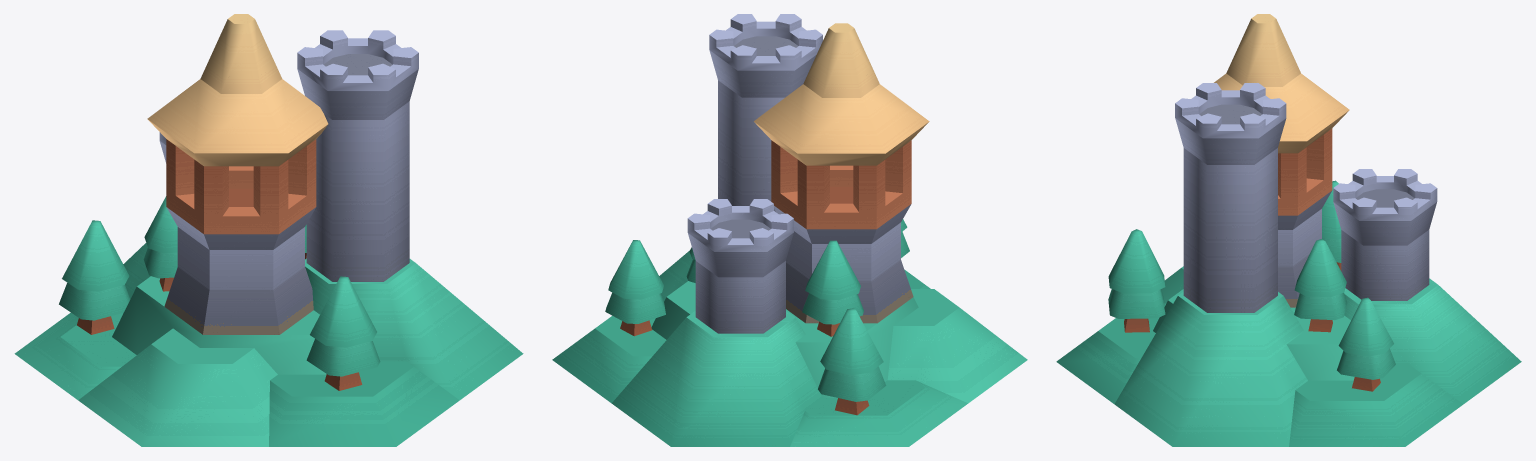
Rendered from hx_building-wizard-tower.glb.
The picture shows the model from 3 angles, left to right: view 1: azimuth 30°, elevation 25°; view 2: azimuth 150°, elevation 25°; view 3: azimuth 270°, elevation 25°; orthographic projection. The views are drawn at different scales.
Bounding box in the file's own units: 1 × 0.8884 × 1.15.
Materials: 1 (1 with a texture image).
